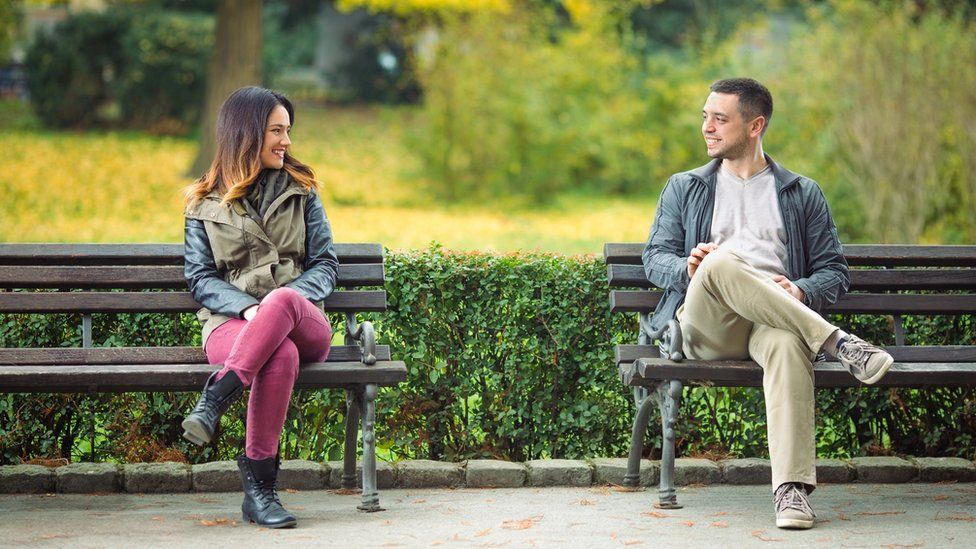person: (657, 83, 892, 524), (182, 84, 330, 529)
